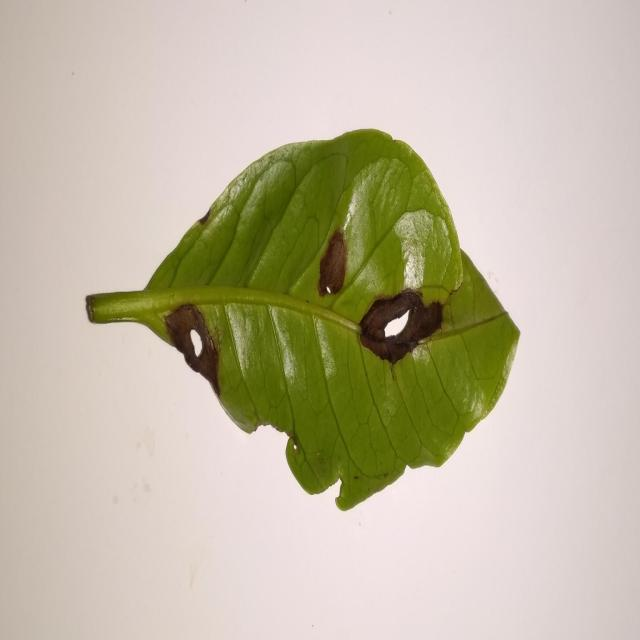Enfermedad-Antracnosis: (84, 128, 521, 514)
